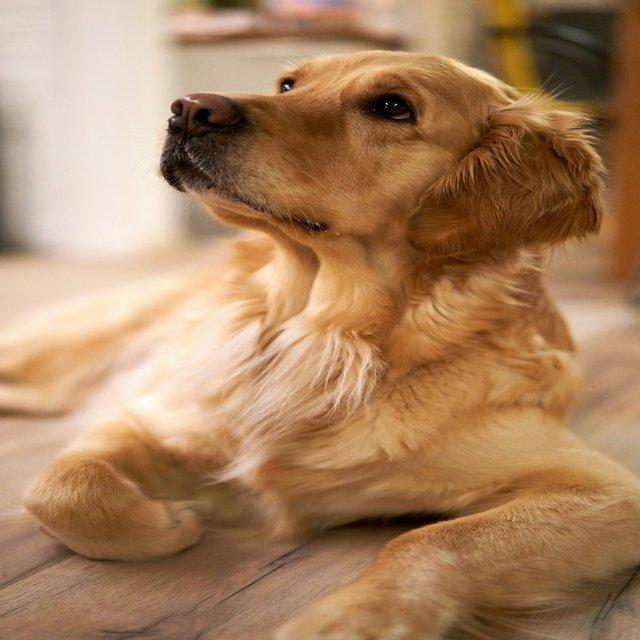retriever: (1, 47, 638, 638)
